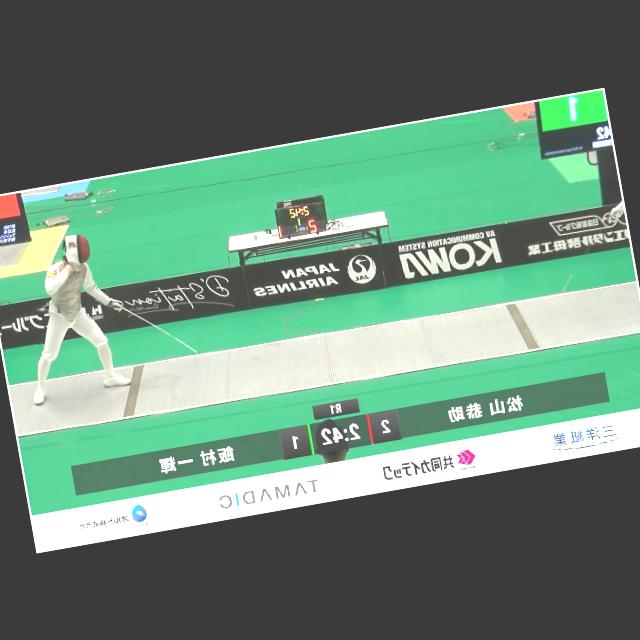blade: (112, 285, 202, 370)
